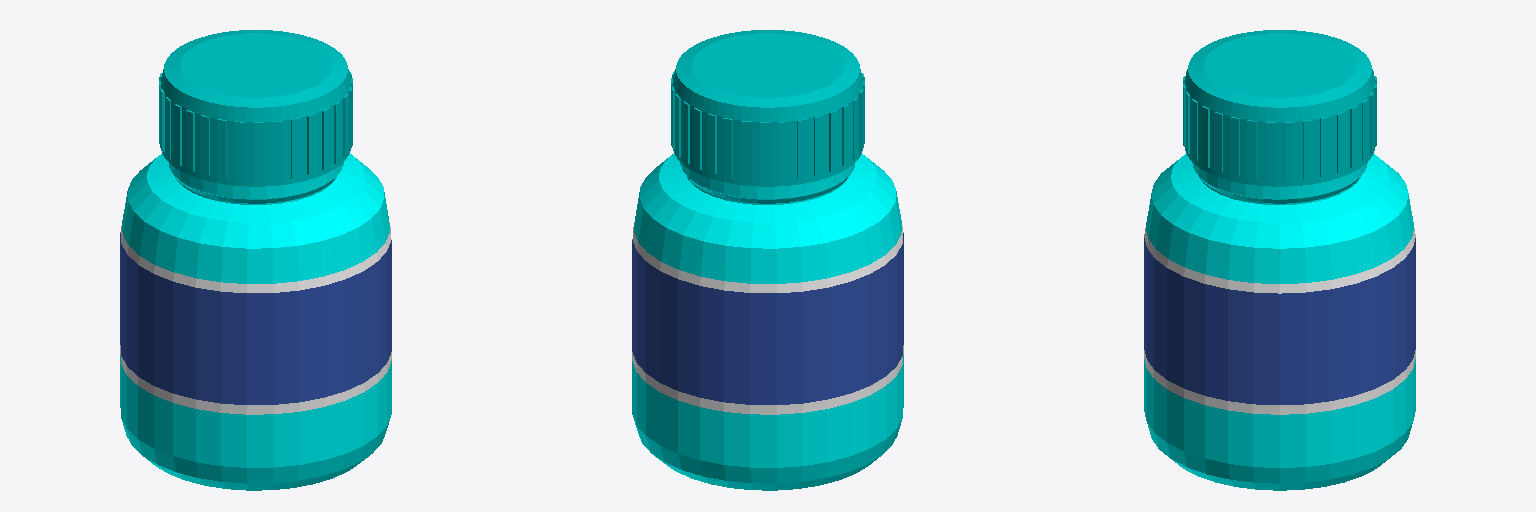
File: pillBottle.obj
3 renders of one model, left to right at view 1: azimuth 30°, elevation 25°; view 2: azimuth 150°, elevation 25°; view 3: azimuth 270°, elevation 25°, orthographic.
Parts seen in each view (by area): view 1: pill_bottle_Cylinder.001_pill_bottle, pill_bottle_Cylinder.001_pill_banner, pill_lid_Cylinder_None, pill_bottle_Cylinder.001_pill_edge; view 2: pill_bottle_Cylinder.001_pill_bottle, pill_bottle_Cylinder.001_pill_banner, pill_lid_Cylinder_None, pill_bottle_Cylinder.001_pill_edge; view 3: pill_bottle_Cylinder.001_pill_bottle, pill_bottle_Cylinder.001_pill_banner, pill_lid_Cylinder_None, pill_bottle_Cylinder.001_pill_edge.
Part boxes in pixels (x1,y1,x2,y2): pill_bottle_Cylinder.001_pill_bottle: (120, 154, 391, 490); pill_bottle_Cylinder.001_pill_banner: (120, 233, 391, 404); pill_lid_Cylinder_None: (159, 30, 352, 186); pill_bottle_Cylinder.001_pill_edge: (120, 222, 391, 414); pill_bottle_Cylinder.001_pill_bottle: (632, 154, 903, 490); pill_bottle_Cylinder.001_pill_banner: (632, 233, 903, 404); pill_lid_Cylinder_None: (671, 30, 864, 186); pill_bottle_Cylinder.001_pill_edge: (632, 222, 903, 414); pill_bottle_Cylinder.001_pill_bottle: (1144, 154, 1415, 490); pill_bottle_Cylinder.001_pill_banner: (1144, 238, 1415, 404); pill_lid_Cylinder_None: (1183, 30, 1376, 186); pill_bottle_Cylinder.001_pill_edge: (1144, 228, 1415, 414).
Bounding box in the file's own units: 1.66 × 2.56 × 1.66.